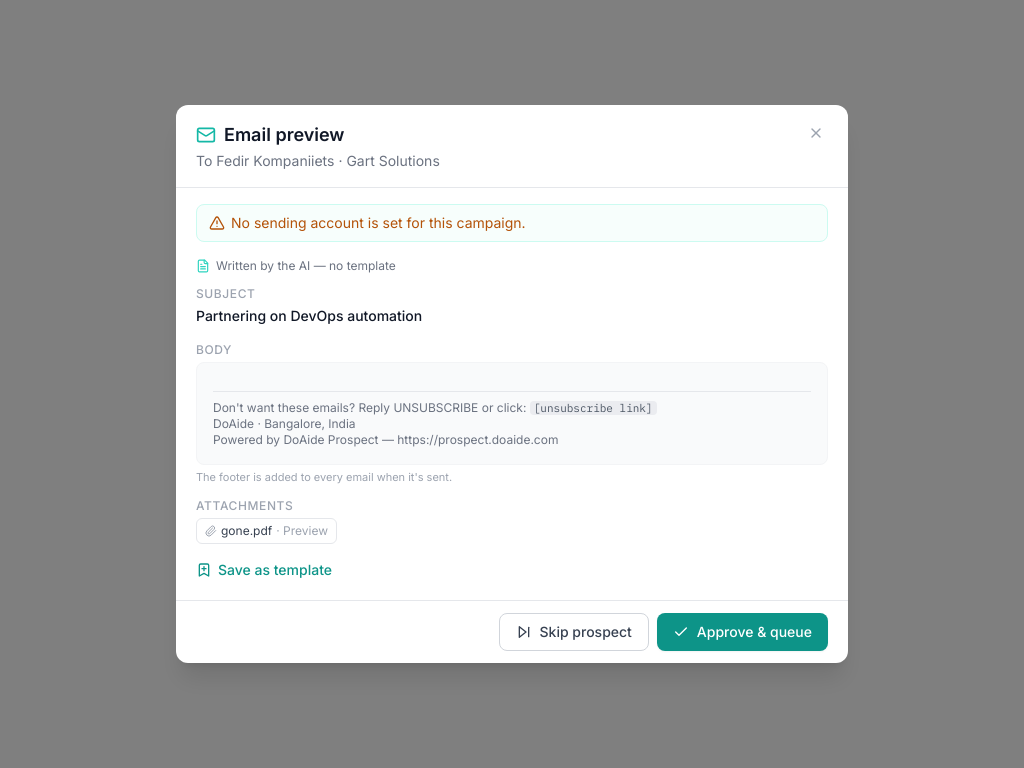
it: EmailPreviewModal › reports a file that failed to load
Click the button "Preview gone.pdf".
click(267, 531)  # box [196,518,337,544]
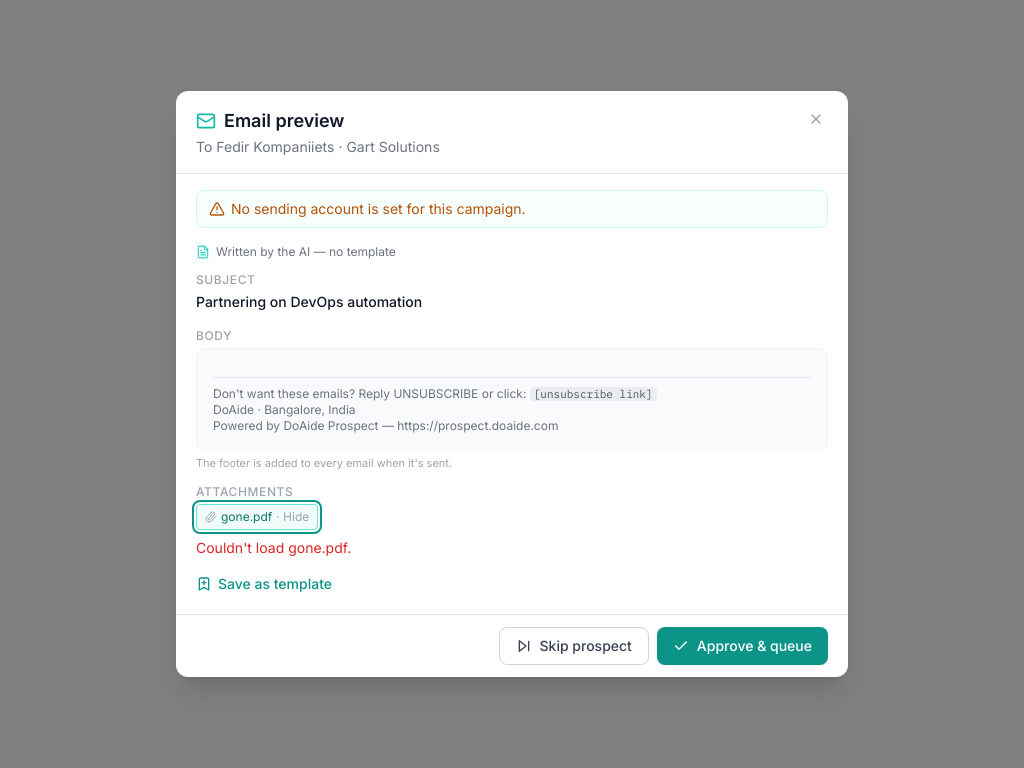
Now the text "Couldn't load gone.pdf." is shown, box [196,539,351,556]
